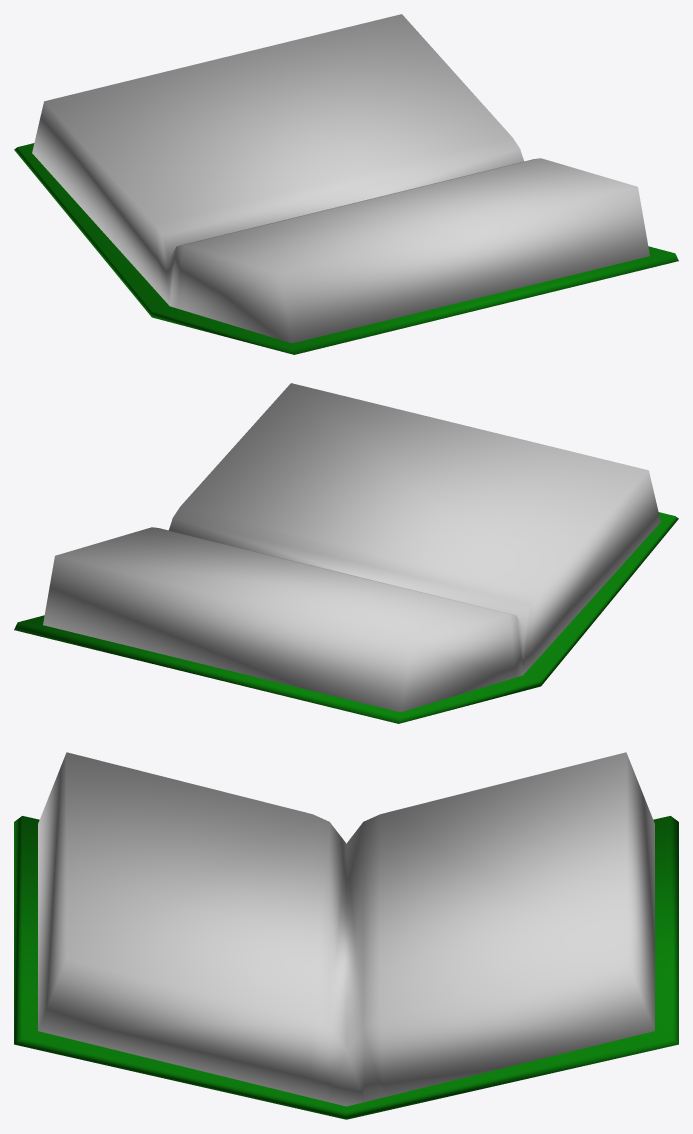
File: zoul_summoning_book.fbx
3 renders of one model, top to bottom at view 1: azimuth 30°, elevation 25°; view 2: azimuth 150°, elevation 25°; view 3: azimuth 270°, elevation 25°, orthographic. The views are drawn at different scales.
Parts seen in each view (by area): view 1: Cube, Cube.001; view 2: Cube, Cube.001; view 3: Cube, Cube.001.
Boxes of the visible parts, x1,y1,x2,y2 form: Cube: (32, 14, 649, 343); Cube.001: (14, 143, 678, 354); Cube: (43, 383, 660, 712); Cube.001: (14, 512, 678, 723); Cube: (38, 752, 654, 1106); Cube.001: (14, 816, 678, 1119).
Size of the model in its own units: 216 by 67.96 by 271.
